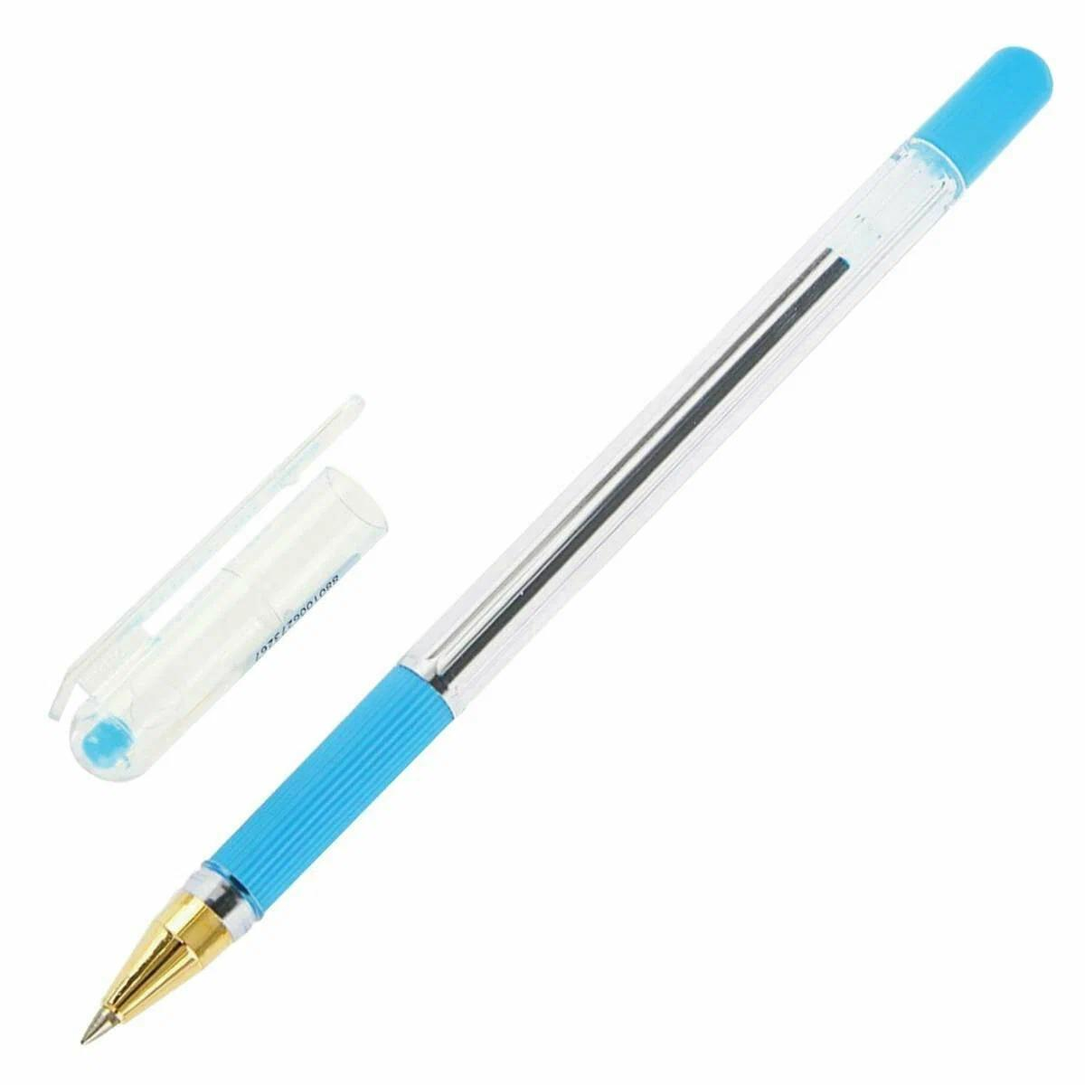pen-pencil: (82, 48, 1051, 1041), (70, 468, 386, 778)
